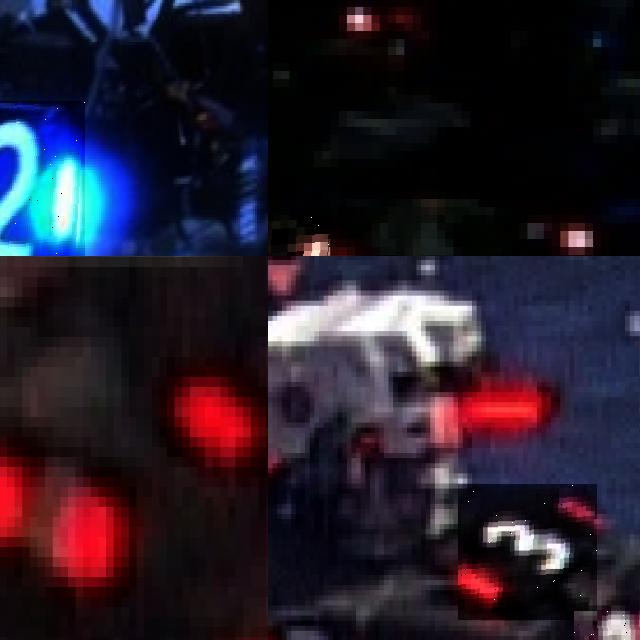B2: (0, 100, 84, 256)
R3: (458, 484, 597, 620), (574, 610, 640, 640)
Rs: (268, 215, 330, 256)
